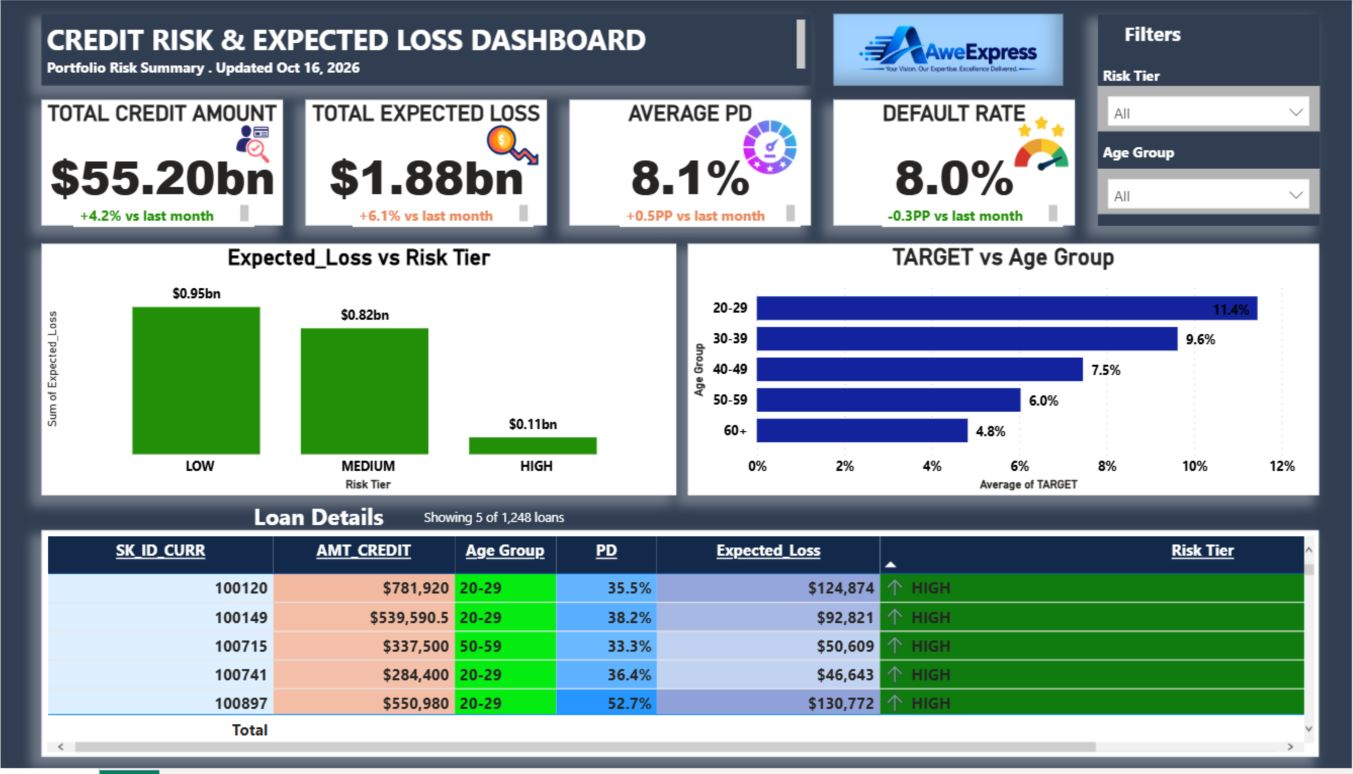

This screenshot's page, from the dashboard's own definition file:
{"tool":"powerbi","page":{"name":"Page 1","canvas":[1280,720],"ordinal":0},"visuals":[{"type":"card","title":"TOTAL CREDIT AMOUNT","fields":{"Values":["Sum(scored_loan_portfolio.AMT_CREDIT)"]},"box":[39.4,93.9,228.6,118.1],"z":0},{"type":"card","title":"TOTAL EXPECTED LOSS","fields":{"Values":["Sum(scored_loan_portfolio.Expected_Loss)"]},"box":[289.2,93.9,228.6,118.1],"z":1000},{"type":"card","title":"AVERAGE PD","fields":{"Values":["Avg(scored_loan_portfolio.PD)"]},"box":[539.1,93.9,228.6,118.1],"z":2000},{"type":"card","title":"DEFAULT RATE","fields":{"Values":["Avg(scored_loan_portfolio.TARGET)"]},"box":[788.9,93.9,228.6,118.1],"z":3000},{"type":"textbox","box":[38.8,12.9,728.6,67.5],"z":4000},{"type":"textbox","box":[834.3,186.2,171.1,25.7],"z":5000},{"type":"textbox","box":[586,186.2,171.1,25.7],"z":6000},{"type":"textbox","box":[69.7,186.2,171.1,25.7],"z":7000},{"type":"textbox","box":[333.1,186.2,171.1,25.7],"z":8000},{"type":"clusteredColumnChart","title":" Expected_Loss vs Risk Tier","fields":{"Y":["Sum(scored_loan_portfolio.Expected_Loss)"],"Category":["scored_loan_portfolio.Risk Tier"]},"box":[39.4,228.6,601.1,236.2],"z":9000},{"type":"clusteredBarChart","title":"TARGET vs Age Group","fields":{"Category":["scored_loan_portfolio.Age Group"],"Y":["Avg(scored_loan_portfolio.TARGET)"]},"box":[651.1,228.6,598.1,236.2],"z":10000},{"type":"tableEx","fields":{"Values":["scored_loan_portfolio.SK_ID_CURR","scored_loan_portfolio.AMT_CREDIT","scored_loan_portfolio.Age Group","scored_loan_portfolio.PD","scored_loan_portfolio.Expected_Loss","scored_loan_portfolio.Risk Tier"]},"box":[38.8,497.2,1210.1,212.7],"z":11000},{"type":"textbox","title":"   Filter","box":[1039.4,13.2,209.8,198.4],"z":12000},{"type":"slicer","fields":{"Values":["scored_loan_portfolio.Risk Tier"]},"box":[1038.7,80.3,210.5,42.4],"z":13000},{"type":"slicer","fields":{"Values":["scored_loan_portfolio.Age Group"]},"box":[1038.7,157.5,210.5,42.4],"z":14000},{"type":"textbox","box":[38.8,464.2,672.6,43.1],"z":14001},{"type":"image","box":[689.8,106.3,77.6,63.2],"z":14002},{"type":"image","box":[954.3,102,63.2,64.7],"z":14003},{"type":"image","box":[452.7,106.3,64.7,58.9],"z":14004},{"type":"image","box":[202.6,112.1,73.3,46],"z":14005},{"type":"image","box":[789,12.9,217,67.5],"z":14006}]}

Visuals, with their boxes in screenshot pixels (x1, y1, x2, y2), scaled from the page's 1280x720 canvas onto the 1353x774 screenshot:
"TOTAL CREDIT AMOUNT" card: bbox=[42, 101, 283, 228]
"TOTAL EXPECTED LOSS" card: bbox=[306, 101, 547, 228]
"AVERAGE PD" card: bbox=[570, 101, 811, 228]
"DEFAULT RATE" card: bbox=[834, 101, 1076, 228]
textbox: bbox=[41, 14, 811, 86]
textbox: bbox=[882, 200, 1063, 228]
textbox: bbox=[619, 200, 800, 228]
textbox: bbox=[74, 200, 255, 228]
textbox: bbox=[352, 200, 533, 228]
" Expected_Loss vs Risk Tier" clusteredColumnChart: bbox=[42, 246, 677, 500]
"TARGET vs Age Group" clusteredBarChart: bbox=[688, 246, 1320, 500]
tableEx - scored_loan_portfolio.SK_ID_CURR x scored_loan_portfolio.AMT_CREDIT: bbox=[41, 534, 1320, 763]
"   Filter" textbox: bbox=[1099, 14, 1320, 227]
slicer - scored_loan_portfolio.Risk Tier: bbox=[1098, 86, 1320, 132]
slicer - scored_loan_portfolio.Age Group: bbox=[1098, 169, 1320, 215]
textbox: bbox=[41, 499, 752, 545]
image: bbox=[729, 114, 811, 182]
image: bbox=[1009, 110, 1076, 179]
image: bbox=[479, 114, 547, 178]
image: bbox=[214, 121, 292, 170]
image: bbox=[834, 14, 1063, 86]
